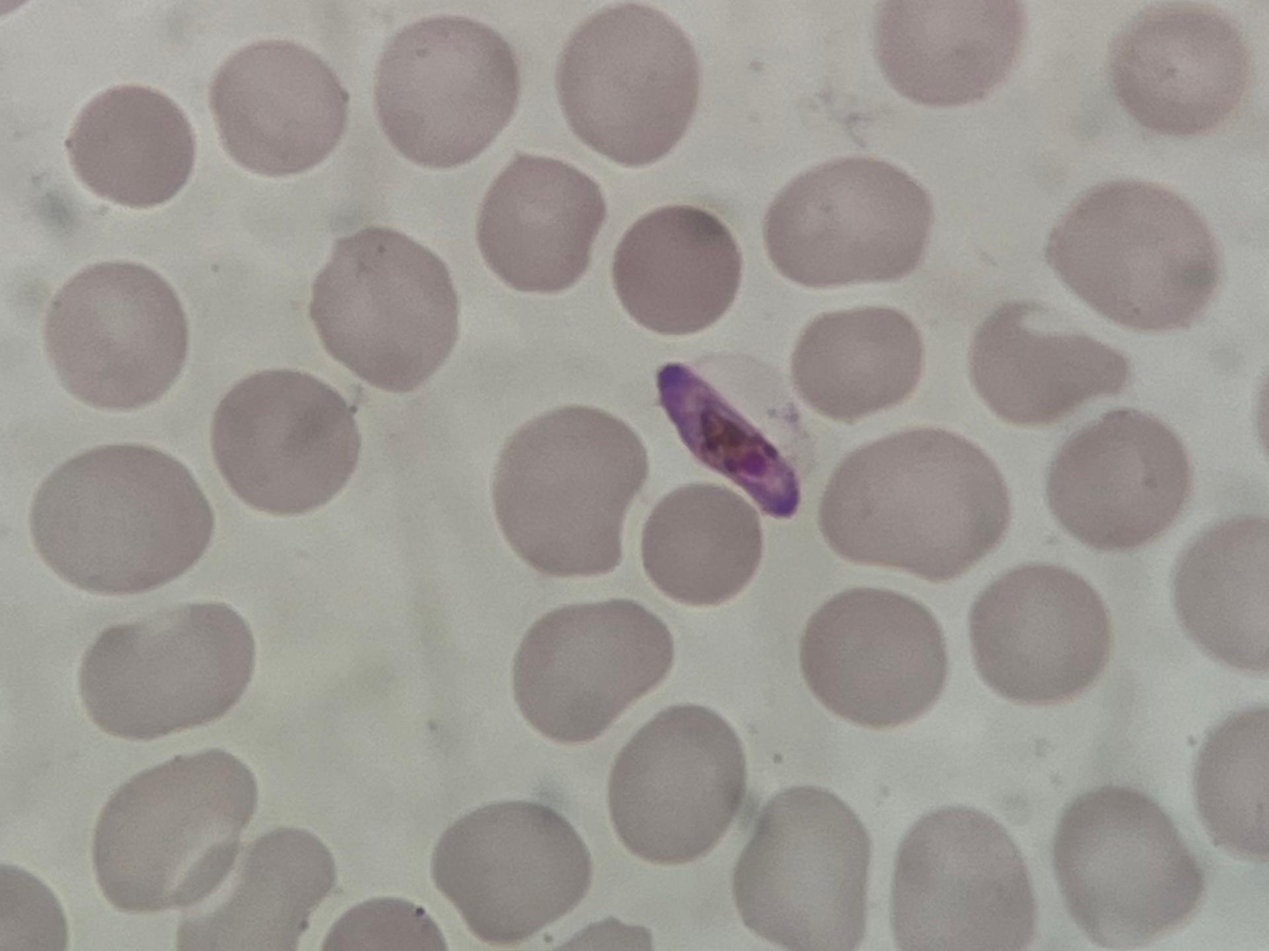Infected: (646, 347, 814, 518)
Uninfected: (821, 428, 1012, 586), (33, 443, 215, 596), (1049, 174, 1217, 332), (492, 405, 643, 575), (92, 752, 253, 911), (1053, 787, 1207, 951), (309, 225, 459, 391), (78, 602, 253, 740), (428, 798, 589, 941), (730, 785, 872, 947), (558, 7, 700, 168), (511, 598, 672, 740), (886, 805, 1040, 951), (610, 706, 747, 863), (46, 260, 187, 411), (372, 19, 516, 165), (765, 159, 927, 288), (967, 294, 1129, 423), (212, 369, 360, 510), (1049, 410, 1188, 554), (968, 564, 1112, 702), (210, 40, 350, 181), (1111, 3, 1250, 134), (476, 157, 601, 295), (610, 204, 738, 336), (66, 83, 196, 210), (877, 0, 1026, 106), (1173, 517, 1269, 681), (641, 481, 762, 610), (791, 309, 923, 423)
